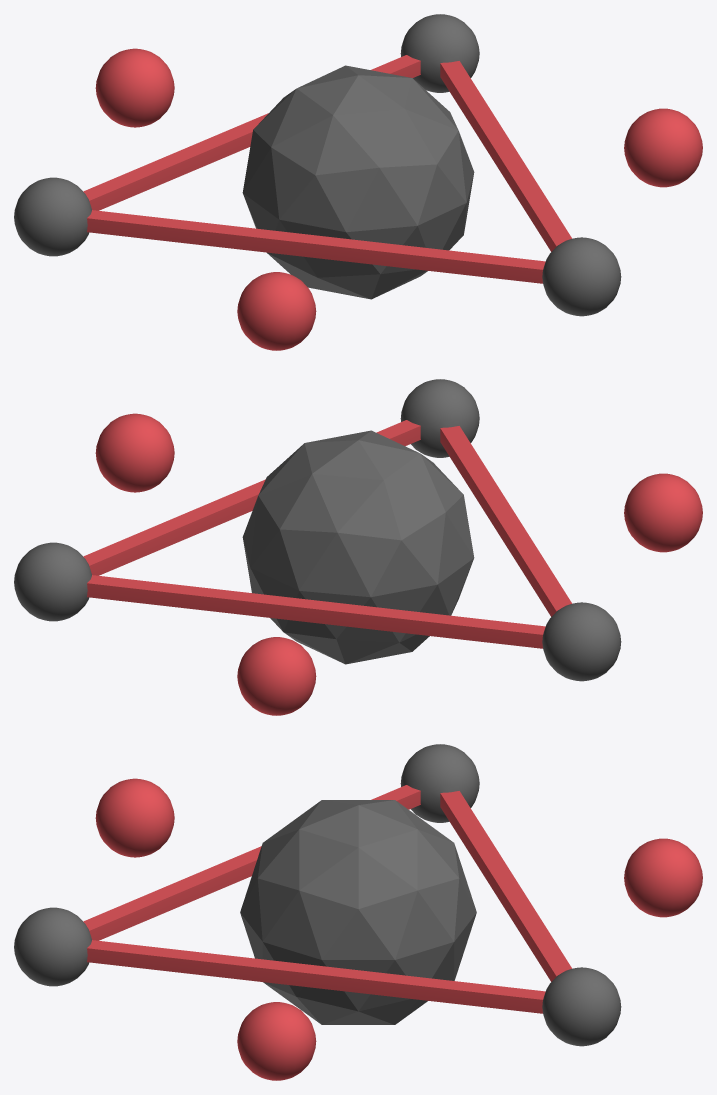
Rendered from soceng.fbx.
3 views of the same model, one above another, from view 1: azimuth 30°, elevation 25°; view 2: azimuth 150°, elevation 25°; view 3: azimuth 270°, elevation 25° (orthographic).
Visible parts, largest first — view 1: soceng; view 2: soceng; view 3: soceng.
Part boxes in pixels (x1,y1,x2,y2): soceng: [14, 14, 702, 350]; soceng: [14, 379, 702, 715]; soceng: [14, 744, 702, 1080].
Bounding box in the file's own units: 122 × 42 × 122.
